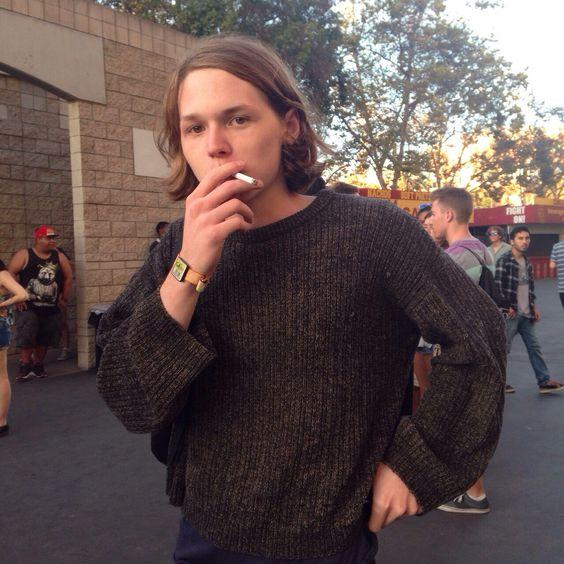cigarette: (231, 172, 263, 186)
